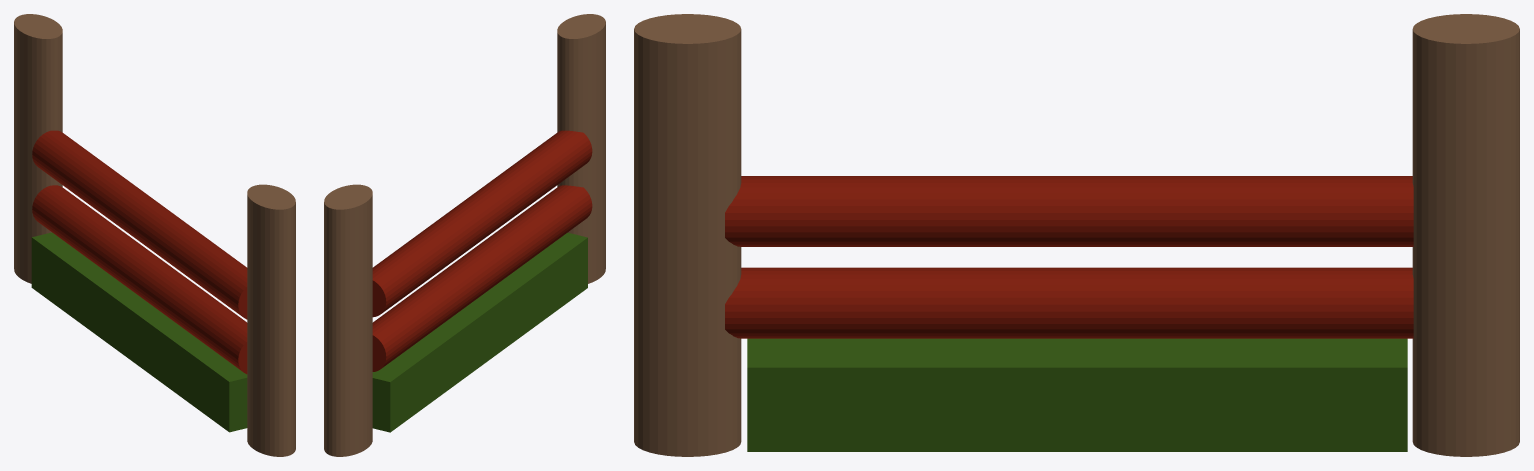
The model's file is Obstaculo.fbx.
3 views of the same model, side by side, from view 1: azimuth 30°, elevation 25°; view 2: azimuth 150°, elevation 25°; view 3: azimuth 270°, elevation 25° (orthographic). The views are drawn at different scales.
Parts seen in each view (by area): view 1: Parante 2; view 2: Parante 2; view 3: Parante 2.
Part boxes in pixels (<box>): Parante 2: <box>14,14,295,456</box>; Parante 2: <box>324,14,605,456</box>; Parante 2: <box>634,14,1519,456</box>.
Size of the model in its own units: 50.67 by 257 by 500.
1 material, 1 textured.
